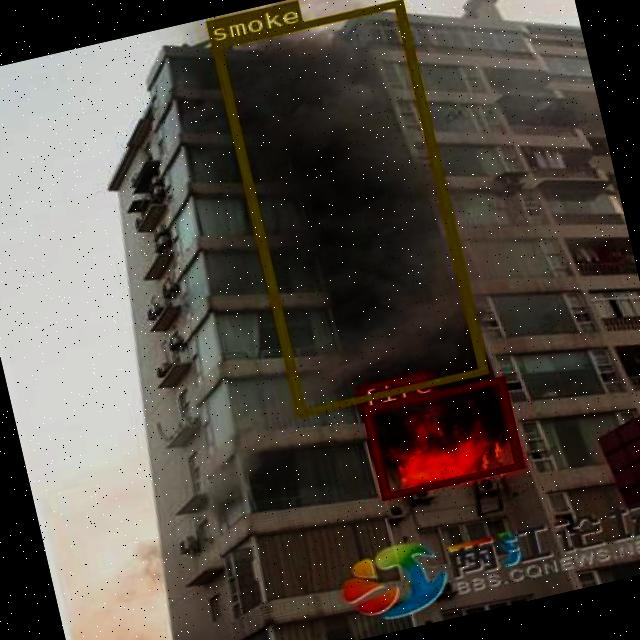fire: (360, 376, 522, 499)
smoke: (210, 0, 486, 415)
